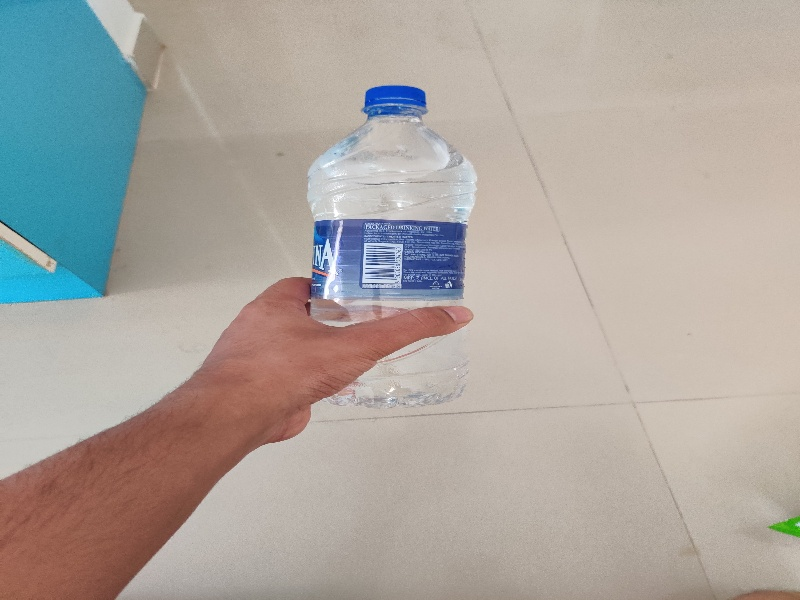bottle: (294, 82, 480, 430)
